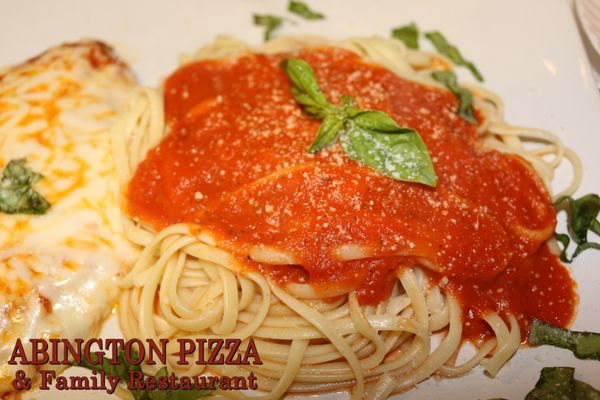curry: (0, 160, 51, 215)
soup: (99, 39, 592, 391)
